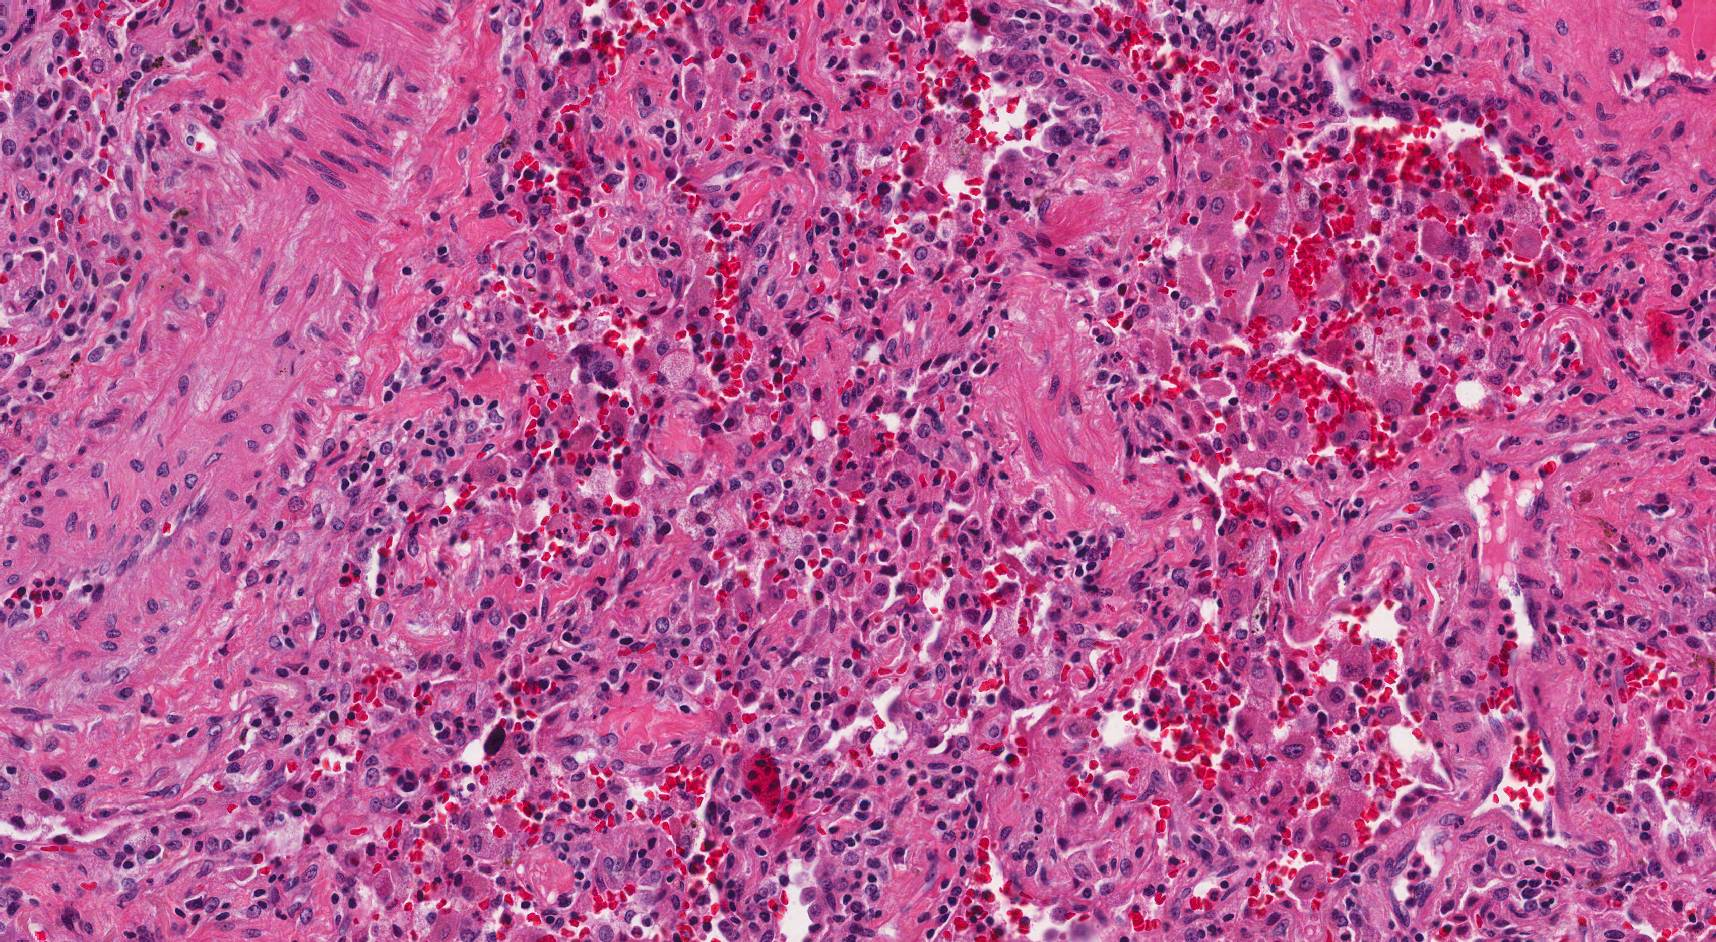stas: (569, 340, 631, 388)
